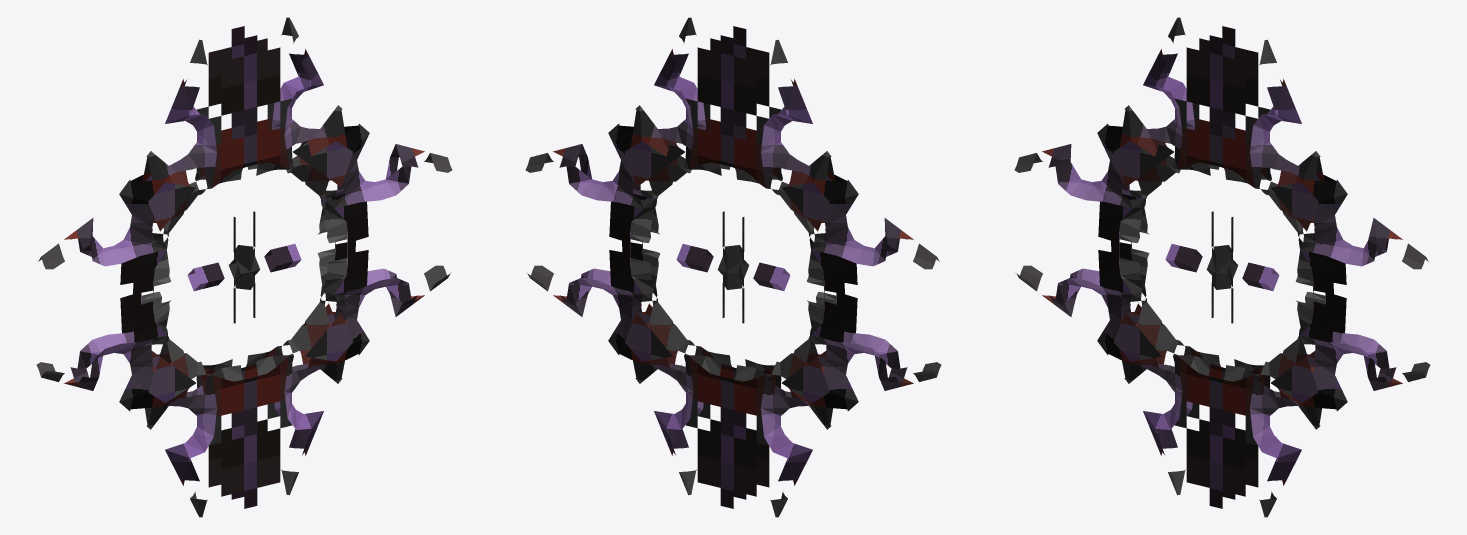
Rendered from wildfire.obj.
The picture shows the model from 3 angles, left to right: view 1: azimuth 30°, elevation 25°; view 2: azimuth 150°, elevation 25°; view 3: azimuth 330°, elevation 25°; orthographic projection.
Size of the model in its own units: 93.69 by 94.42 by 4.43.
